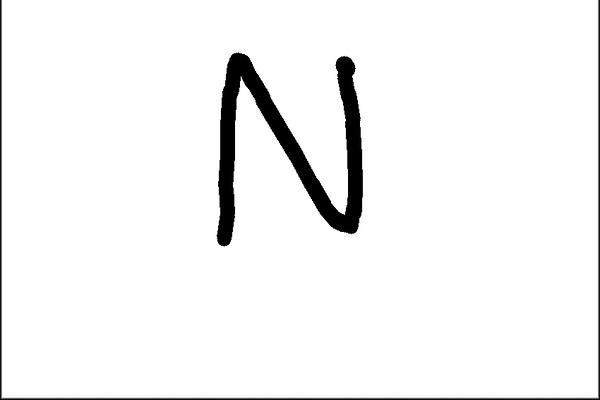N: (207, 45, 371, 247)
